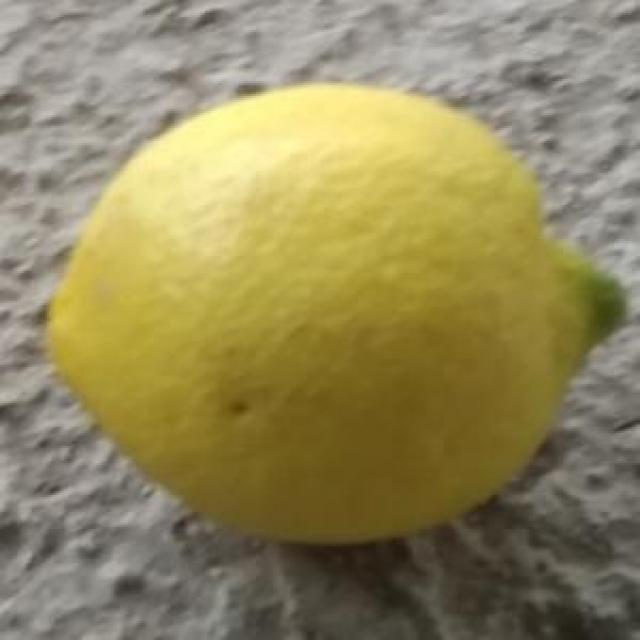lemon: (51, 84, 625, 542)
